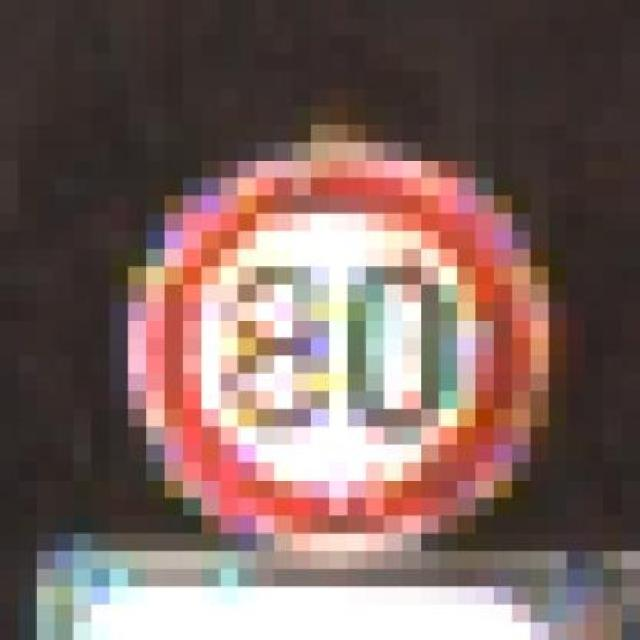forb_speed_over_80: (142, 168, 536, 549)
